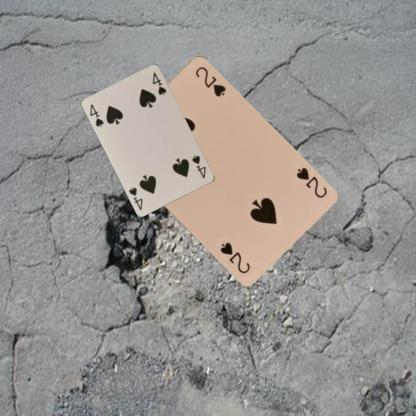2s: (293, 165, 328, 199)
4s: (190, 152, 208, 180), (87, 102, 105, 128)
